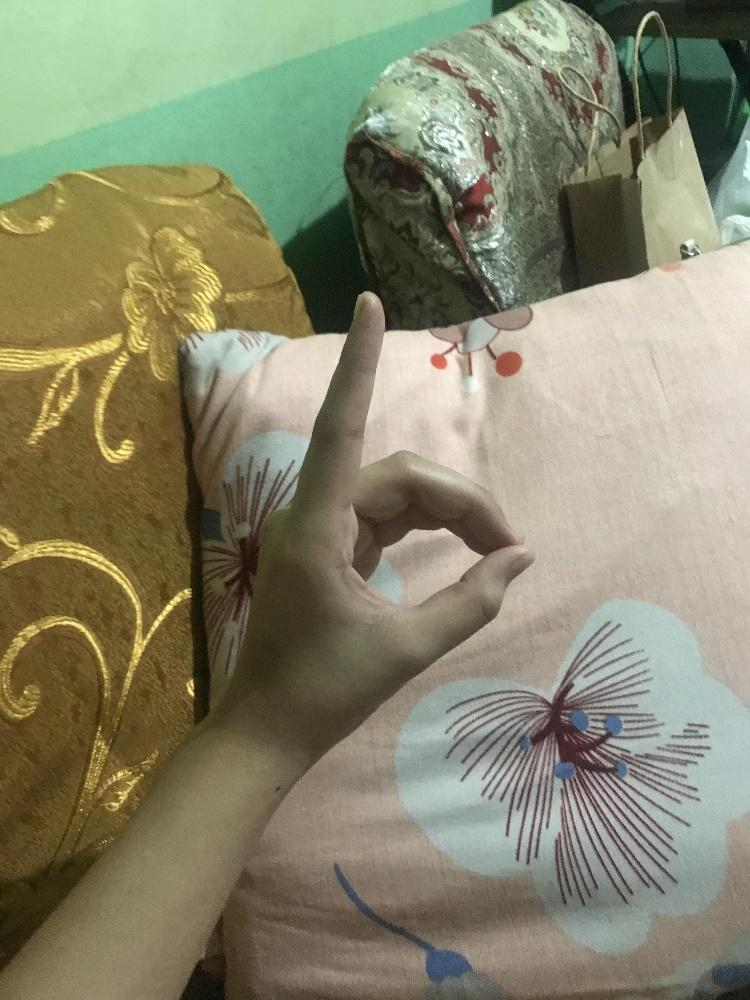d: (237, 285, 538, 755)
